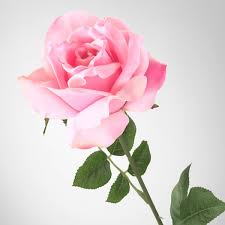lale: (14, 3, 225, 225)
